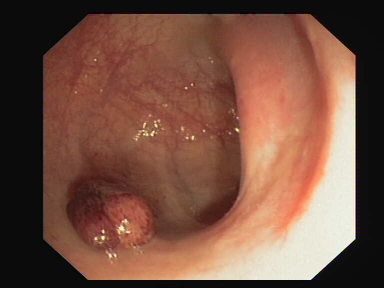polyp: (52, 166, 170, 252)
